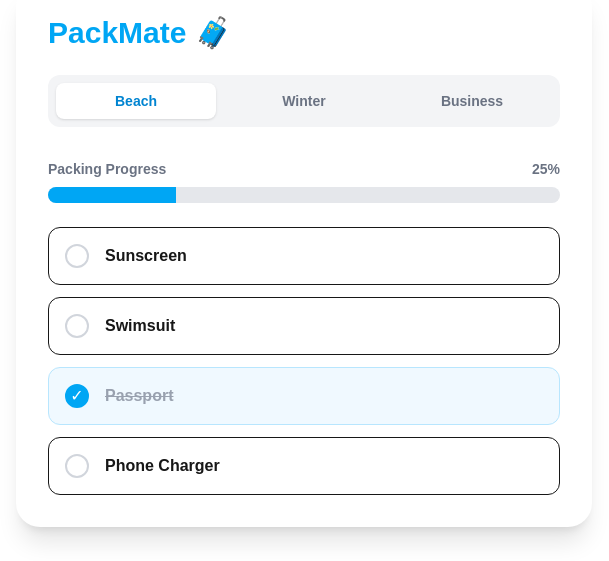
Test case: PackMate Component and Page › should filter items when selecting Business trip category
Click the button "Business" at (472, 101), box [392,83,552,119]
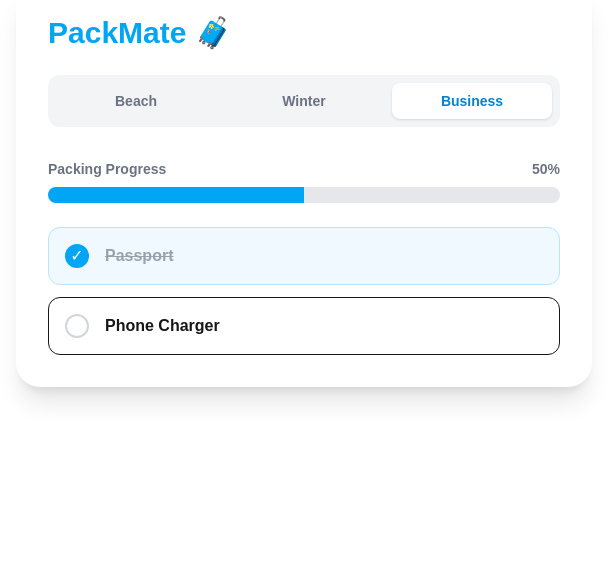
expect the text "Passport" is shown: met, box [105,244,174,268]
expect the text "Sunscreen" is gone: met
expect the text "50%" is shown: met, box [532,159,560,179]
